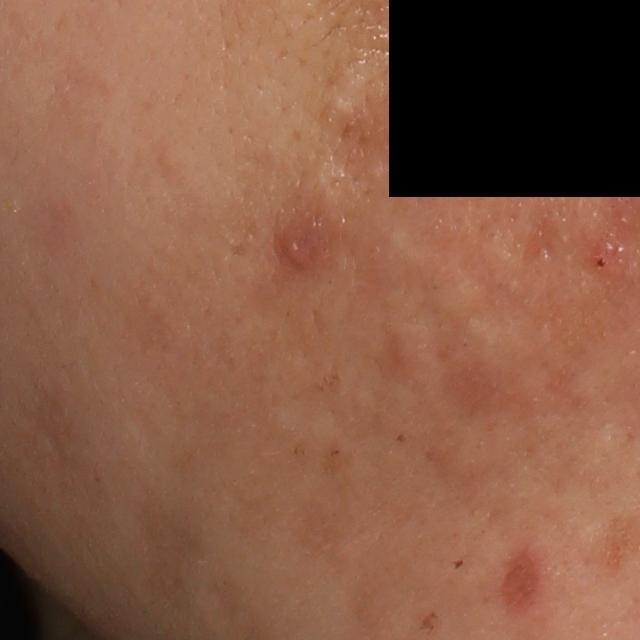hypertrophic_scar: (464, 307, 532, 375), (428, 267, 495, 326), (386, 326, 447, 389), (314, 159, 349, 209), (328, 86, 355, 120)
papule: (579, 238, 627, 283), (276, 231, 319, 270)
